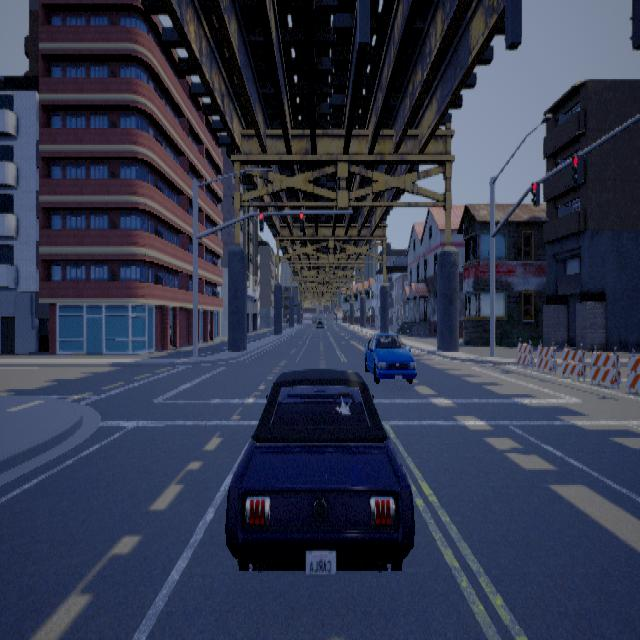red_light: (573, 154, 583, 186), (532, 180, 541, 206), (260, 210, 265, 230), (301, 210, 304, 230)
vehicle: (226, 367, 416, 573), (365, 332, 418, 382)
